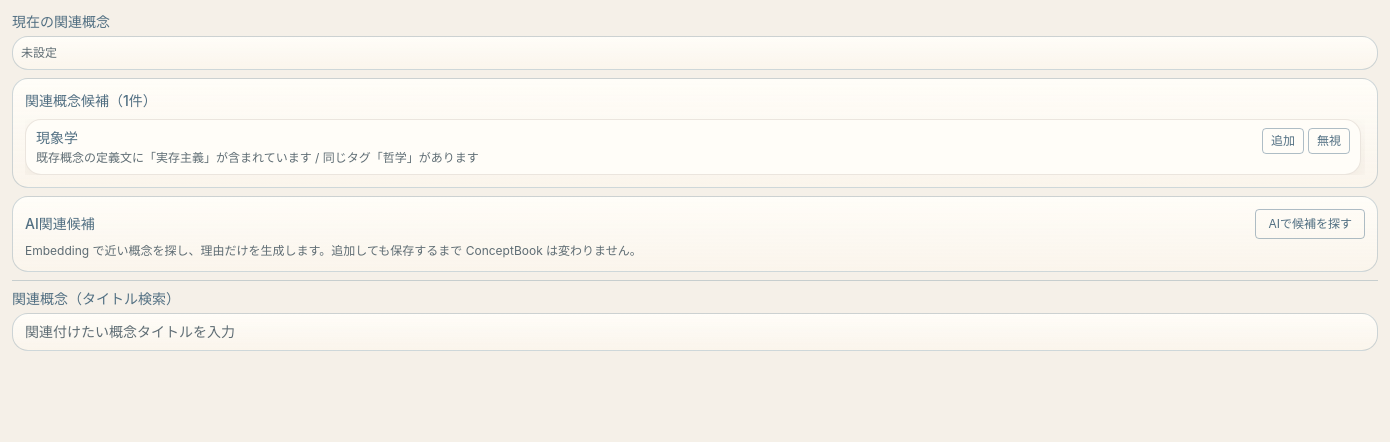
RelatedConceptPicker AI統合 › AI error 後もローカル候補とタイトル検索が使える
Click the button "AIで候補を探す" at (1310,224), box top-left (1256, 209), bottom-right (1365, 239)
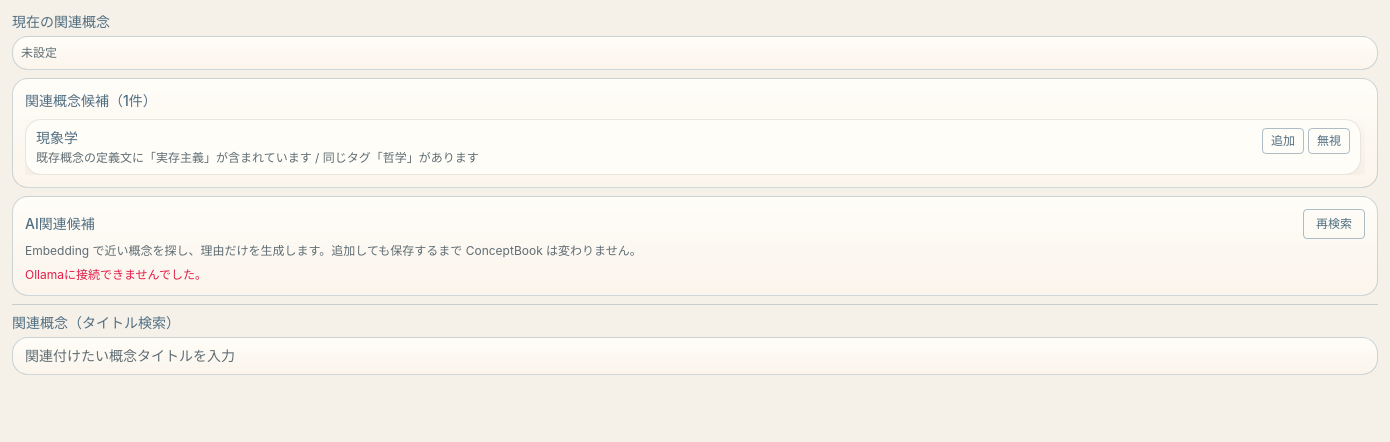
Now the message reads "Ollamaに接続できませんでした。", box top-left (25, 267), bottom-right (207, 282)
Click the button "追加" at (1283,141), box top-left (1262, 128), bottom-right (1304, 154)
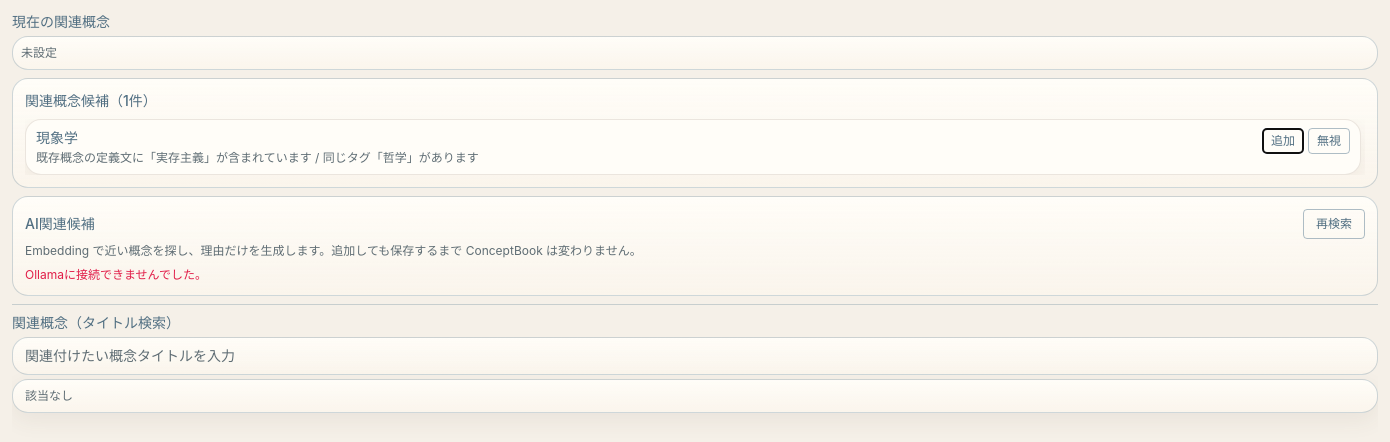
Type "集合" into the field with placeholder "関連付けたい概念タイトルを入力" at (695,356), box top-left (12, 337), bottom-right (1378, 375)
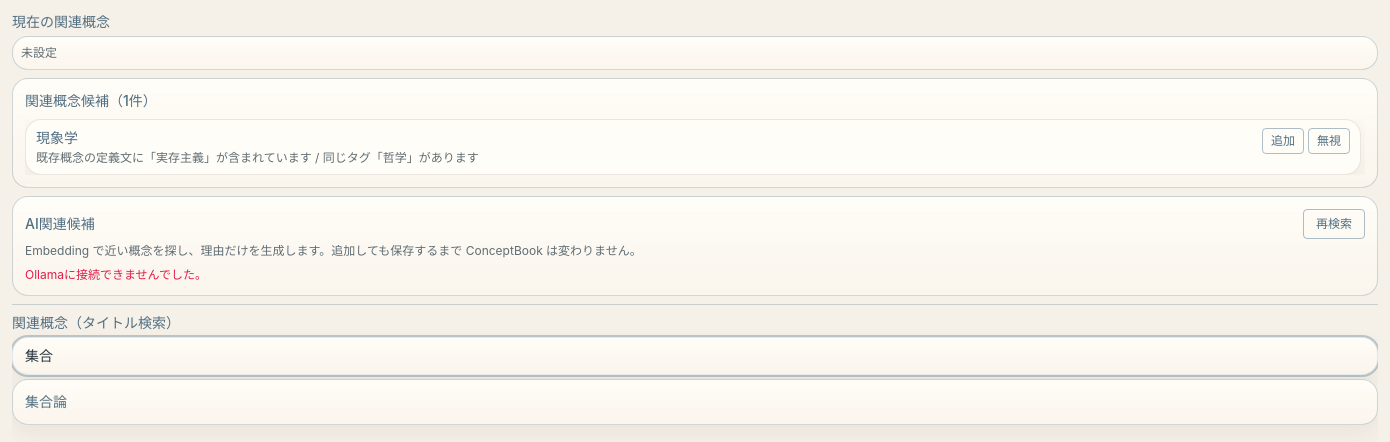
Now the text "集合論" is shown, box top-left (25, 393), bottom-right (67, 410)
